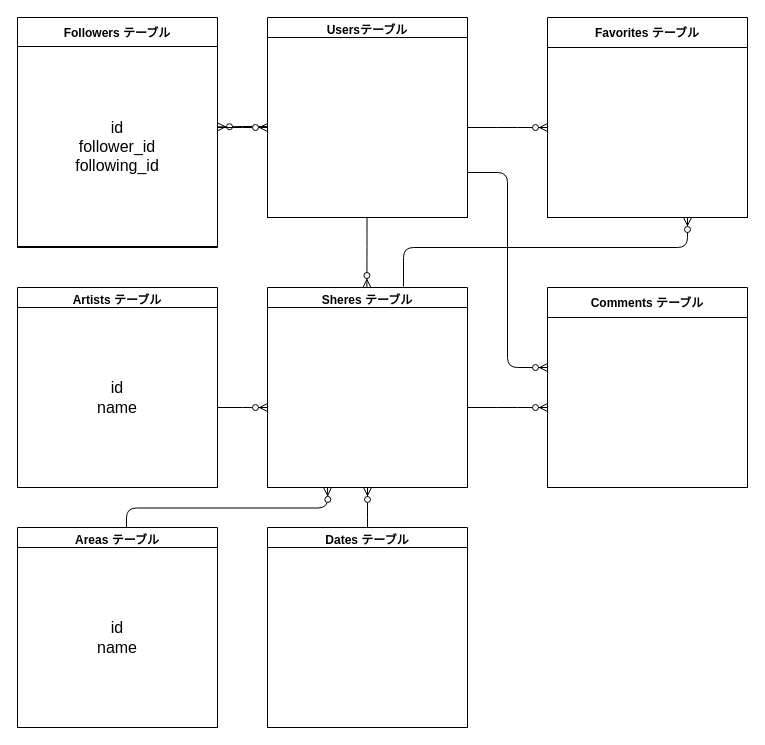
Some shapes in this 765 by 745 pixel diagram are drawn without their labels. Each missing label, with the centre of its shape:
"id date" belongs at [367,637].
"id name email password created_at updated_at" belongs at [367,127].
"id shere user_id artist_id area_id date_id" belongs at [367,397].
"id user_id shere_id" belongs at [647,132].
"id user_id shere_id contents" belongs at [647,402].
